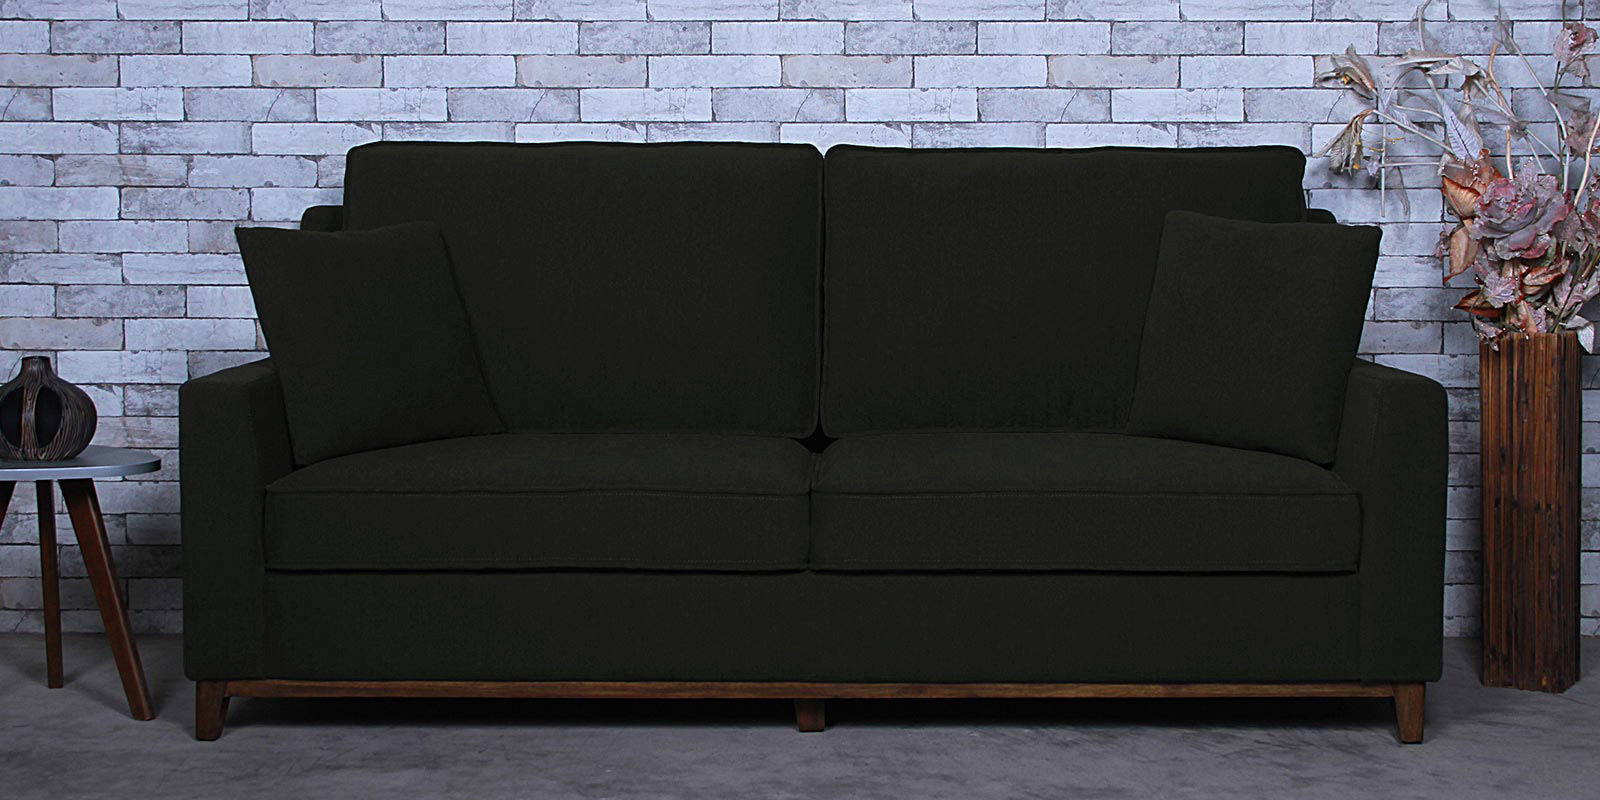Diego Three Seater Sofa in Charcoal Grey Colour by CasaCraft: (180, 130, 1460, 746)
